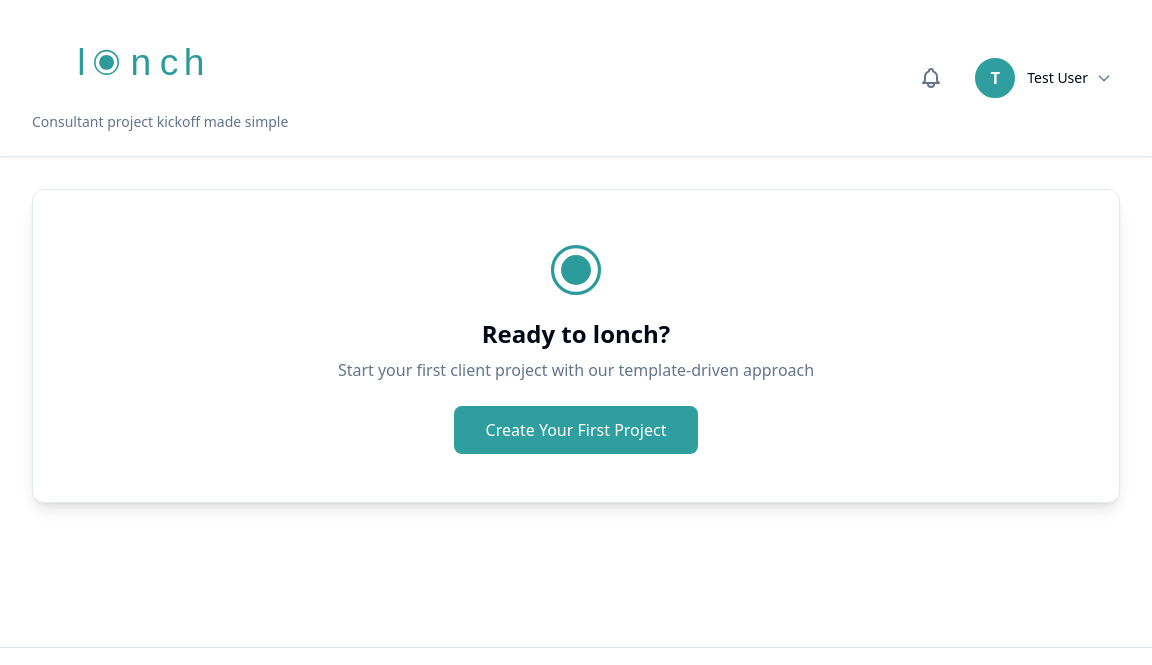
Test case: Lonch App › navigates to wizard when Create Your First Project is clicked
Click the button "Create Your First Project". click: (576, 430)
box: [454,406,698,454]
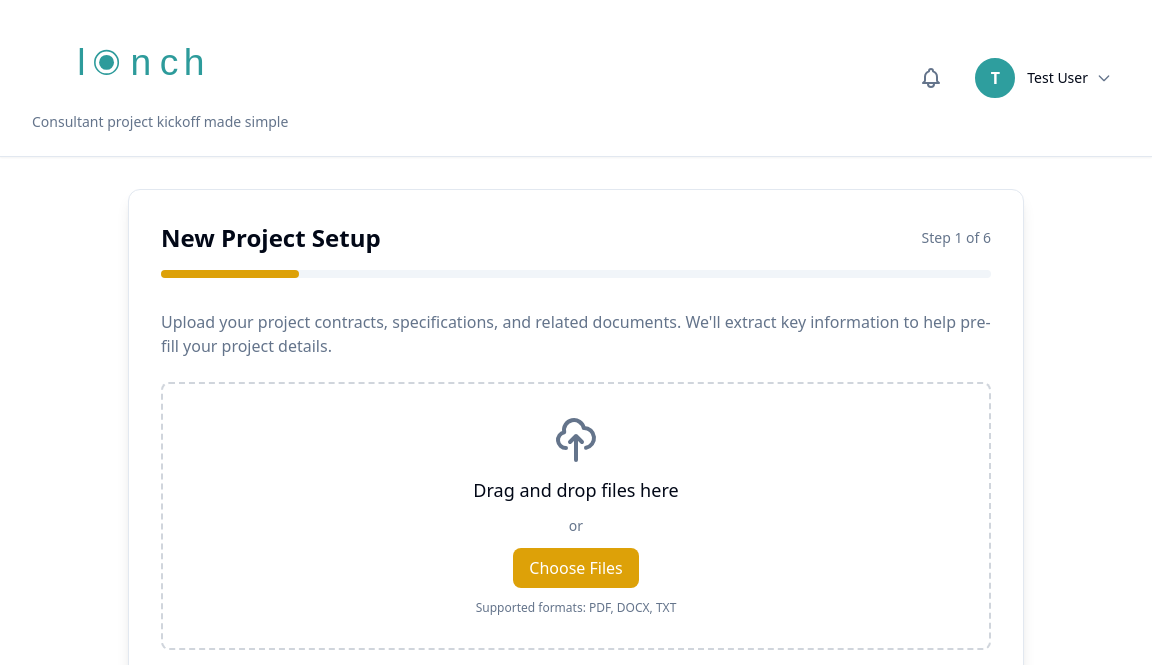
expect the heading "New Project Setup" is shown: met, box [161,222,381,254]
expect the text "Step 1 of 6" is shown: met, box [922,228,991,248]
